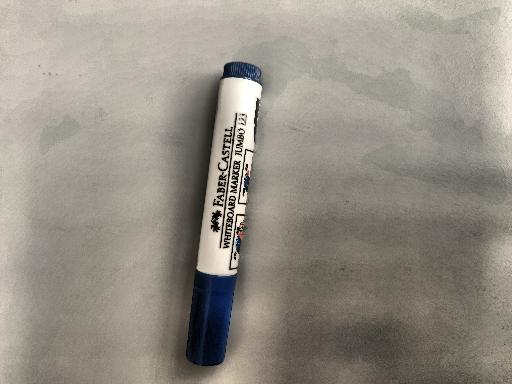marcador azul: (186, 62, 262, 366)
